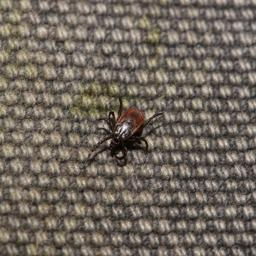Ixodes scapularis: (88, 98, 164, 168)
